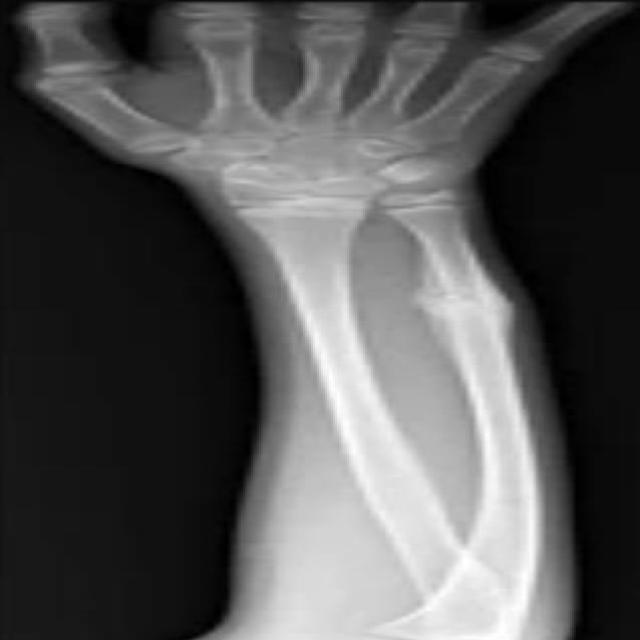bone: (392, 276, 535, 336)
